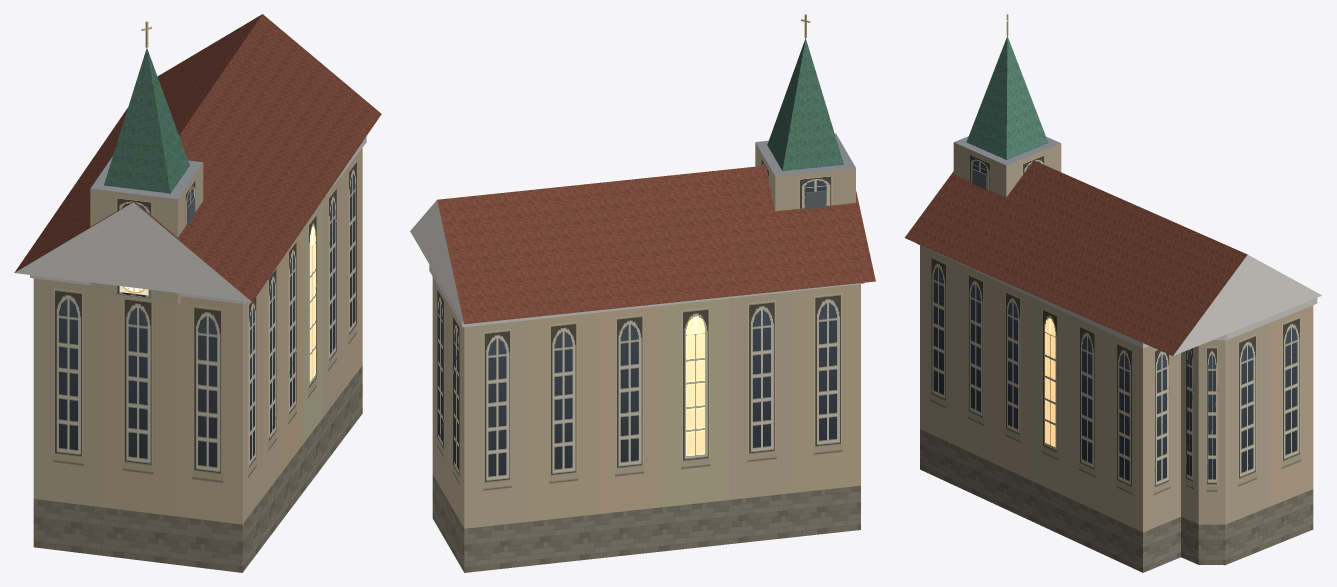
Rendered from k93_dreifaltigkeit.glb.
The picture shows the model from 3 angles, left to right: view 1: azimuth 30°, elevation 25°; view 2: azimuth 150°, elevation 25°; view 3: azimuth 270°, elevation 25°; orthographic projection. The views are drawn at different scales.
Bounding box in the file's own units: 32.27 × 36.8 × 31.87.
6 materials, 5 textured.
